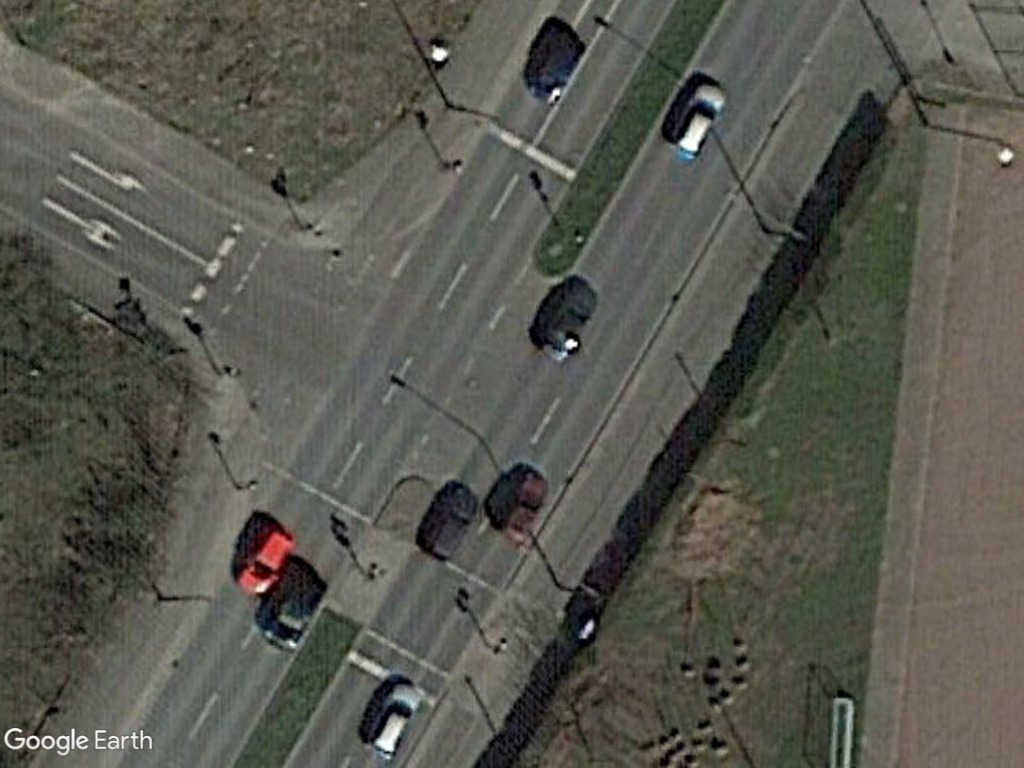car: (360, 681, 426, 762), (666, 80, 729, 161), (235, 525, 299, 597)
